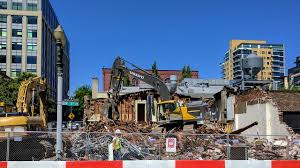excavator: (106, 56, 203, 135), (0, 75, 49, 143)
